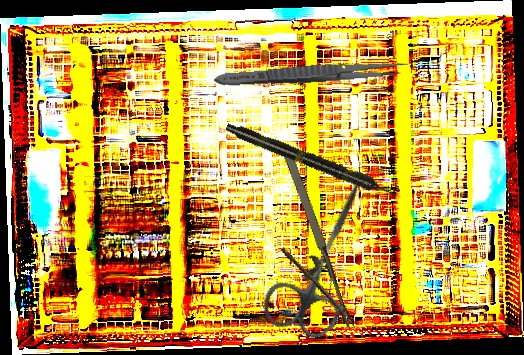Dressing Forceps: (213, 56, 409, 91)
Handpiece: (223, 119, 399, 203)
Iris Scissors: (255, 159, 395, 348)
Needle Holder: (252, 147, 356, 343)
